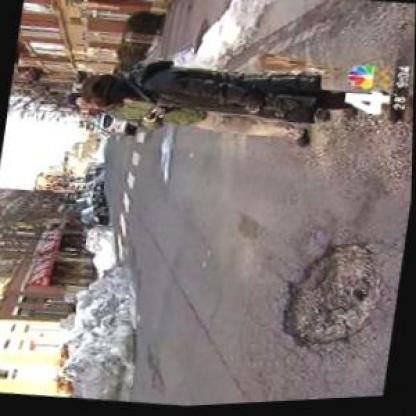pothole: (273, 236, 387, 362)
